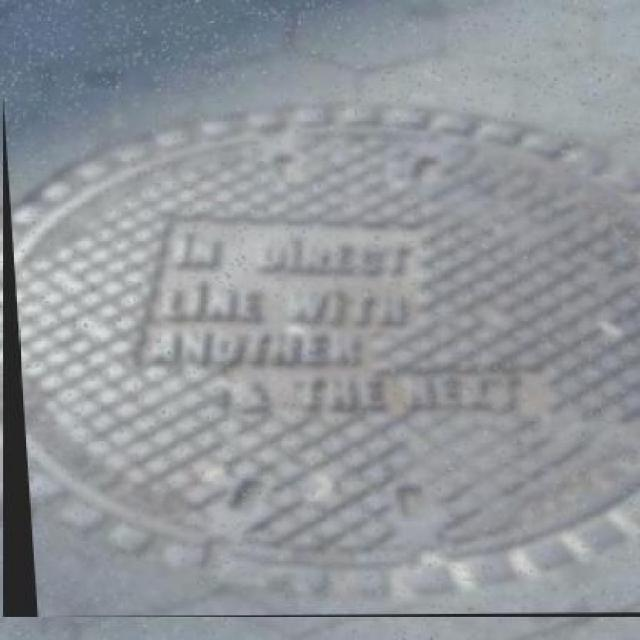Manhole: (3, 94, 640, 617)
